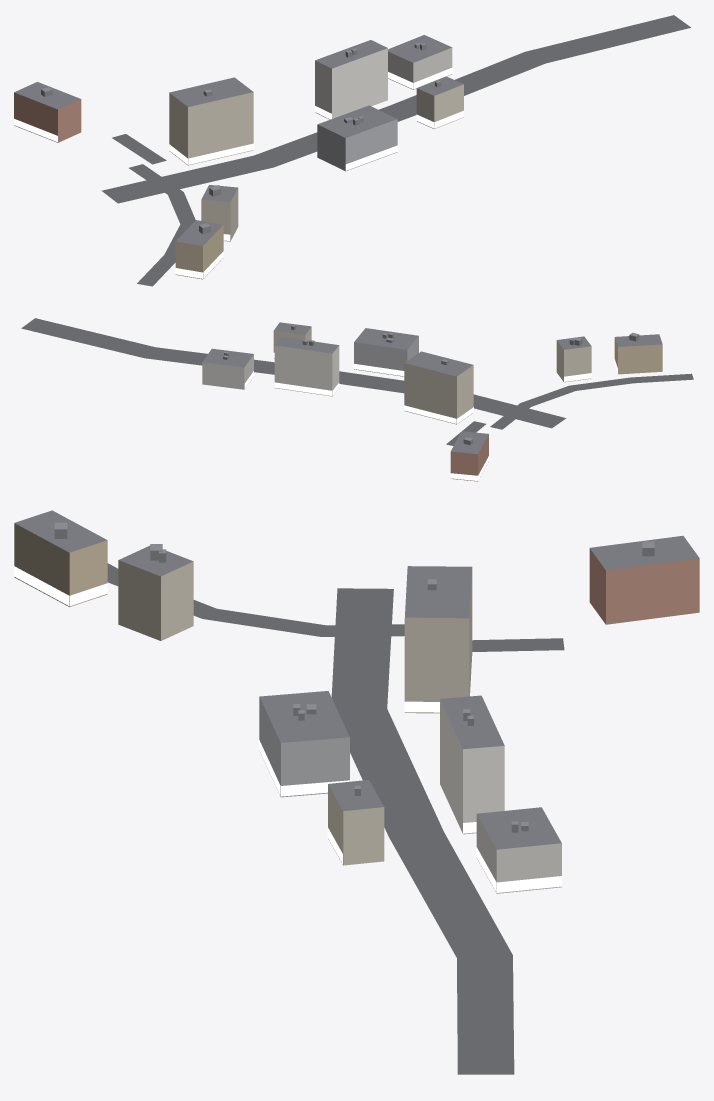
3 views of the same model, one above another, from view 1: azimuth 30°, elevation 25°; view 2: azimuth 150°, elevation 25°; view 3: azimuth 270°, elevation 25° (orthographic). The views are drawn at different scales.
Size of the model in its own units: 372 by 31.77 by 194.
